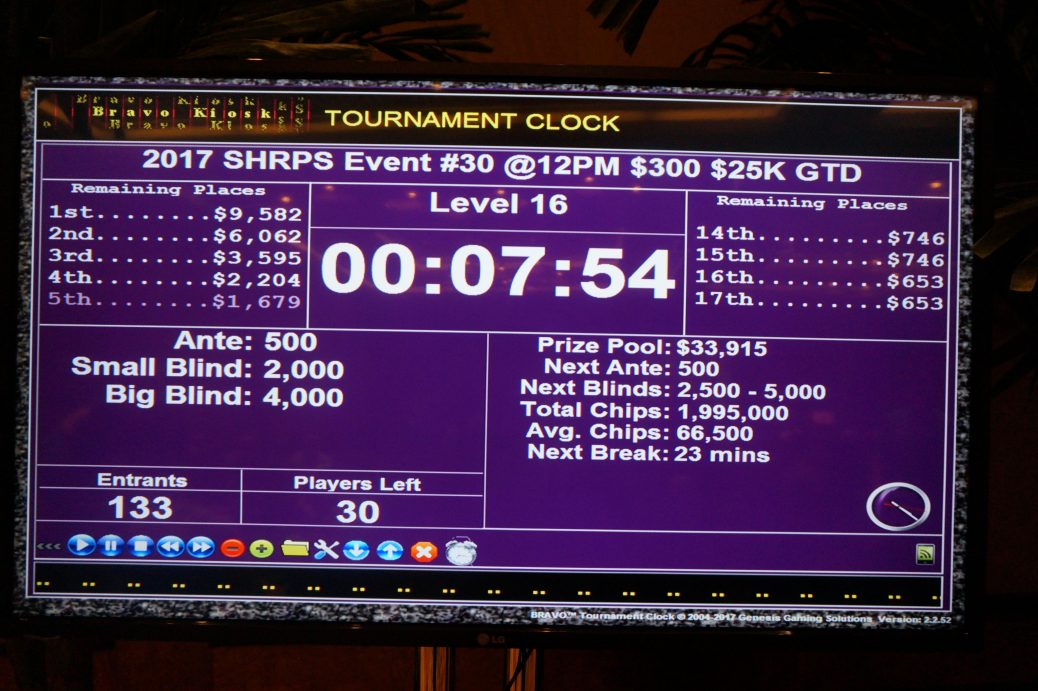PlayersLeft: (237, 463, 488, 533)
Remaining: (30, 175, 311, 329), (682, 190, 951, 340)
TournamentClock: (29, 142, 950, 543)
